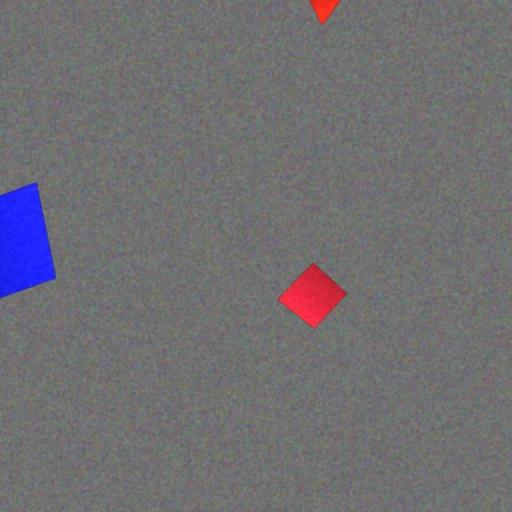BLUE_SQUARE: (0, 182, 57, 311)
RED_SQUARE: (277, 262, 348, 330)
